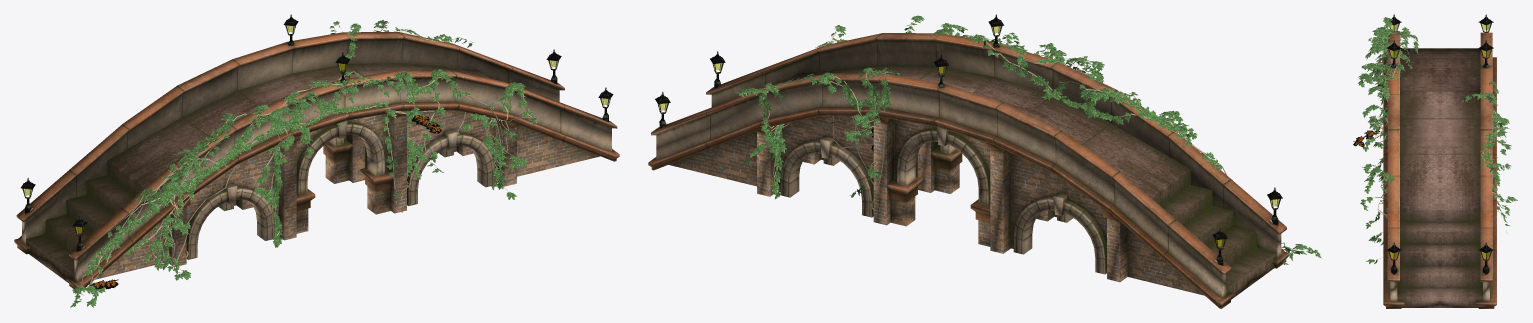
File: Bridge2.gltf
The picture shows the model from 3 angles, left to right: view 1: azimuth 30°, elevation 25°; view 2: azimuth 150°, elevation 25°; view 3: azimuth 270°, elevation 25°; orthographic projection. The views are drawn at different scales.
Visible parts, largest first — view 1: Bridge1_4, Bridge1_3, Bridge1_1, Bridge1_2; view 2: Bridge1_4, Bridge1_3, Bridge1_1; view 3: Bridge1_4, Bridge1_3, Bridge1_1, Bridge1_5, Bridge1_2.
Part boxes in pixels (x1=…): Bridge1_4: x1=14, y1=14, x2=619, y2=290; Bridge1_3: x1=70, y1=19, x2=537, y2=307; Bridge1_1: x1=78, y1=21, x2=532, y2=297; Bridge1_2: x1=84, y1=115, x2=441, y2=290; Bridge1_4: x1=648, y1=14, x2=1289, y2=308; Bridge1_3: x1=735, y1=15, x2=1321, y2=264; Bridge1_1: x1=747, y1=20, x2=1307, y2=262; Bridge1_4: x1=1383, y1=14, x2=1496, y2=308; Bridge1_3: x1=1358, y1=17, x2=1517, y2=263; Bridge1_1: x1=1362, y1=22, x2=1507, y2=259; Bridge1_5: x1=1390, y1=24, x2=1490, y2=258; Bridge1_2: x1=1353, y1=84, x2=1497, y2=157.
Bounding box in the file's own units: 17.3 × 5.26 × 4.99.
Materials: 5 (4 with a texture image).
